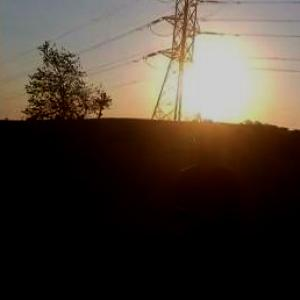follow: (168, 121, 244, 299)
